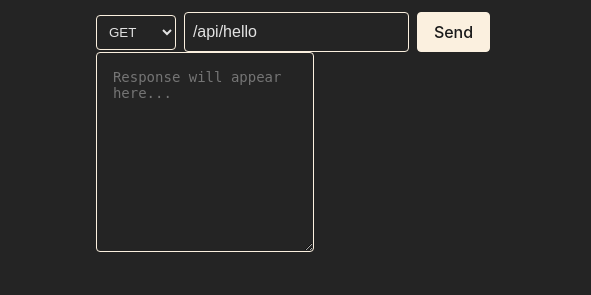
Test case: APITester › should validate endpoint URL and show error message
This screenshot has width=591, height=295.
Click the button "Send" at (454, 32), box [417,12,490,52]
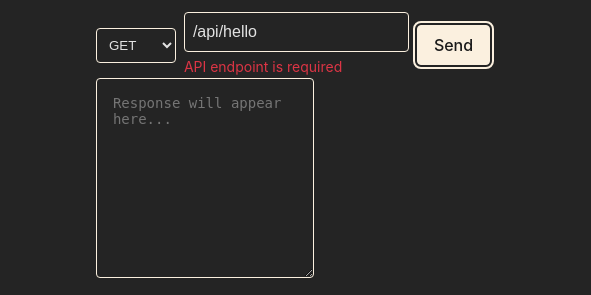
Check: the text "API endpoint is required" is shown, box [184,58,342,75]
Test invalid URL format validation
Type "invalid-url" into the field named "API Endpoint" at (296, 32), box [184,12,409,52]
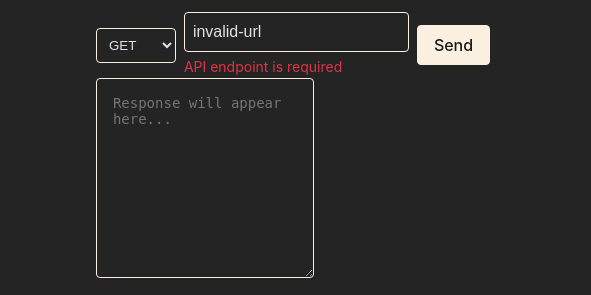
Click the button "Send" at (454, 45), box [417,25,490,65]
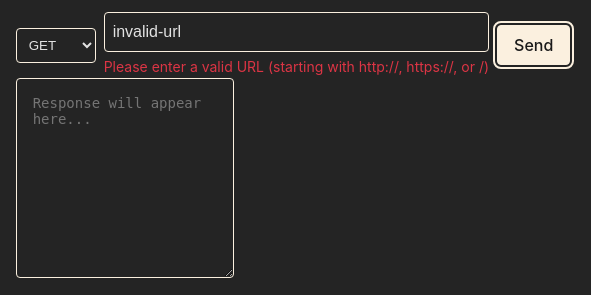
Check: the text "Please enter a valid URL (starting with http://, https://, or /)" is shown, box [104,56,489,78]
Replace the text in the field named "API Endpoint" with "/api/valid" at (296, 32), box [104,12,489,52]
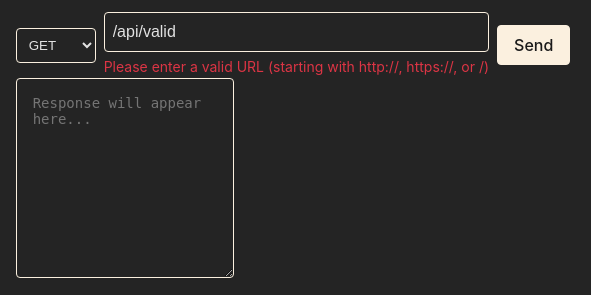
Click the button "Send" at (534, 45), box [497,25,570,65]
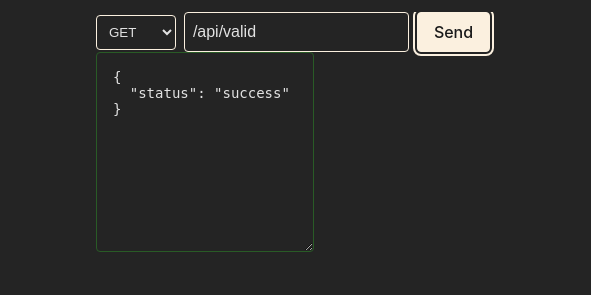
Check: the text "API endpoint is required" is not shown
Check: the text "Please enter a valid URL (starting with http://, https://, or /)" is gone
